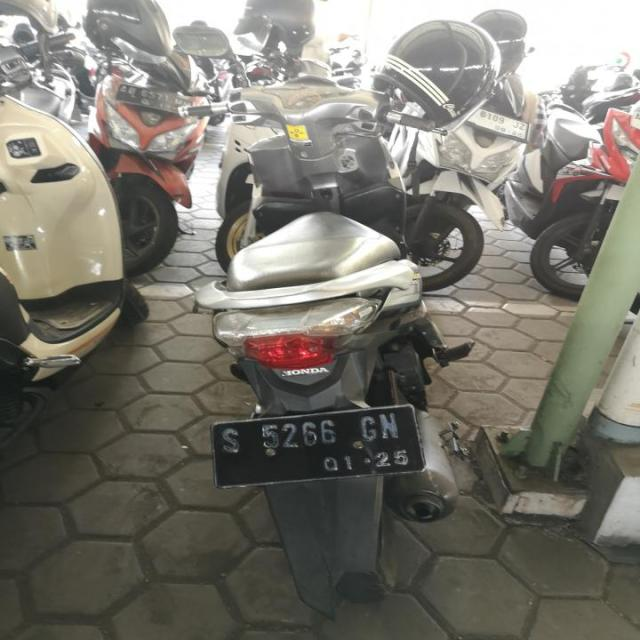License Plate: (209, 403, 427, 489), (116, 83, 194, 117), (464, 108, 531, 143)
